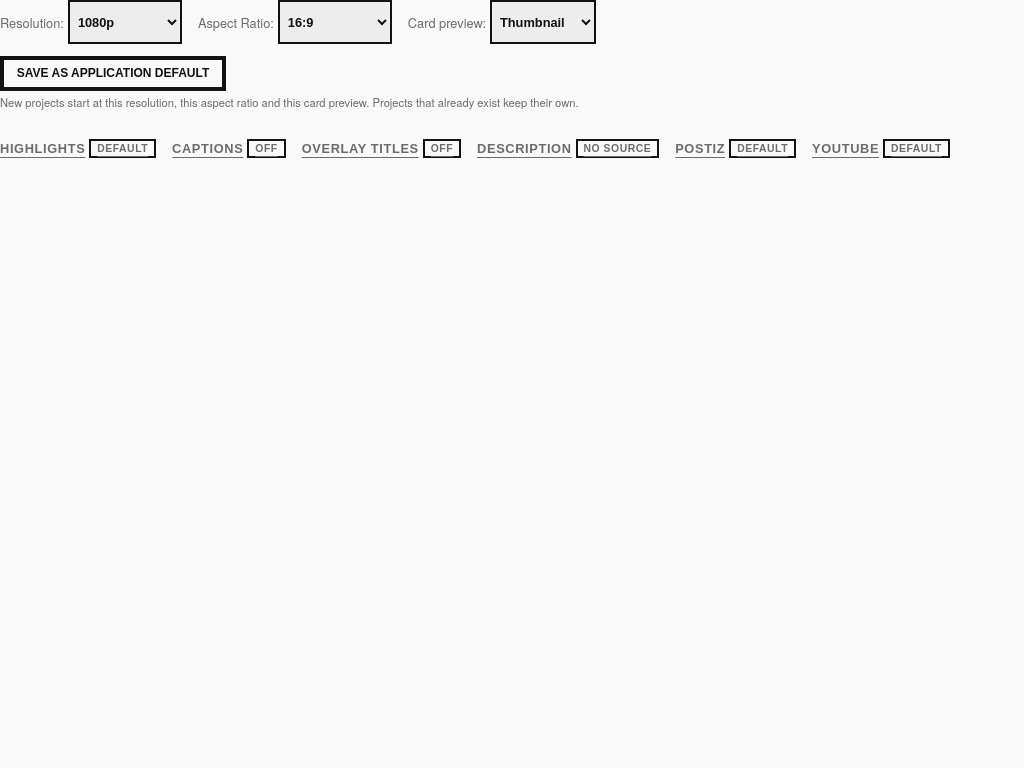
it: ProjectSettingsMenu › keeps the caption form in a dialog rather than in the menu
Expected: the field labelled "Burn captions into rendered clips" is not shown
Click the button "Captions Off" at coordinates (229, 148), box [172,126,286,170]
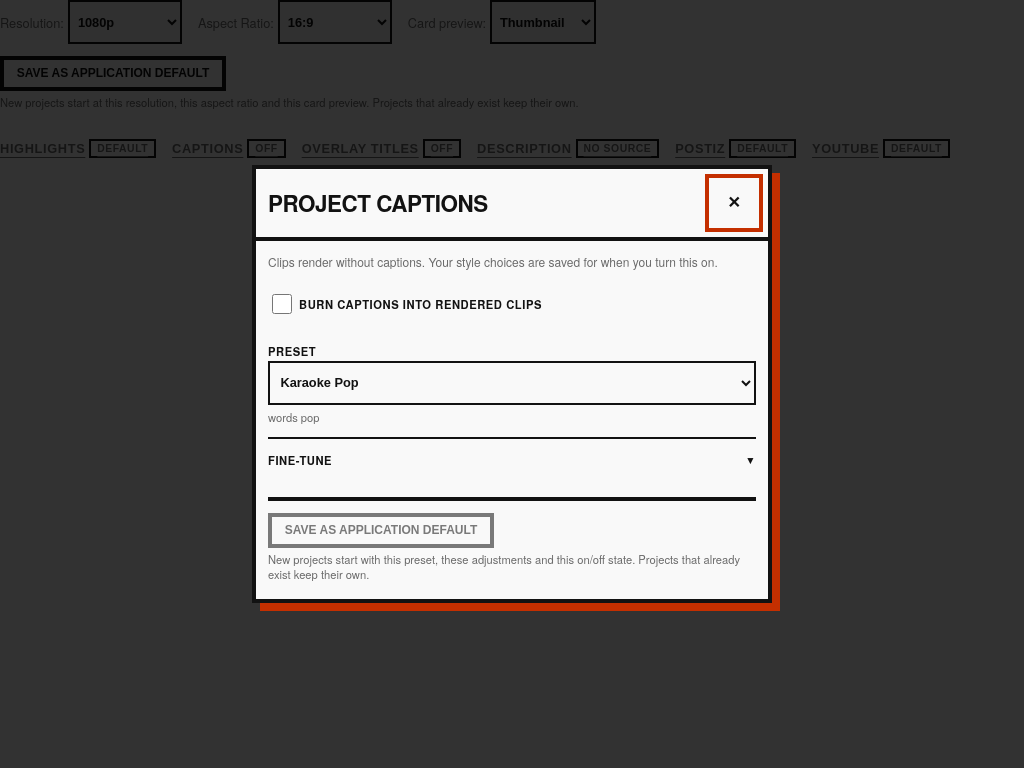
Expected: the dialog is shown, [252,165,772,603]
Expected: the checkbox labelled "Burn captions into rendered clips" is shown, [272,294,292,314]
